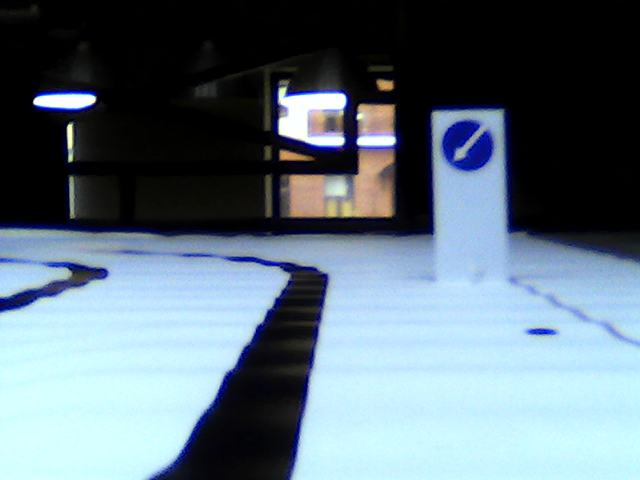prep: (438, 116, 493, 171)
